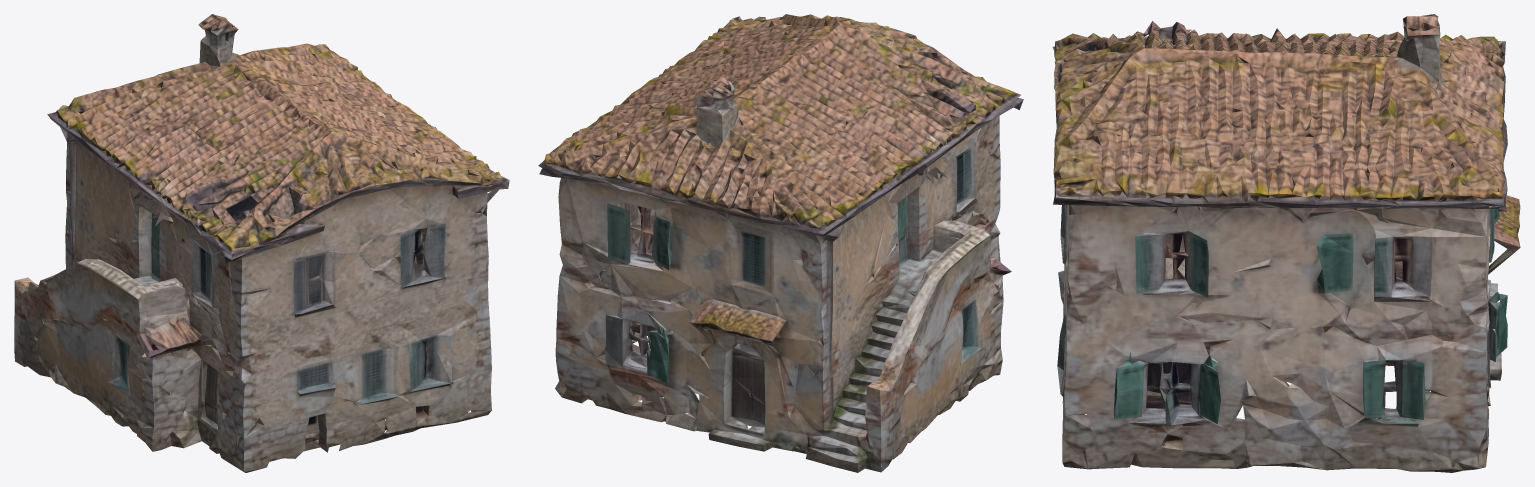
The model's file is it_house.obj.
3 views of the same model, side by side, from view 1: azimuth 30°, elevation 25°; view 2: azimuth 150°, elevation 25°; view 3: azimuth 270°, elevation 25° (orthographic). The views are drawn at different scales.
Visible parts, largest first — view 1: it_house; view 2: it_house; view 3: it_house.
Boxes of the visible parts, x1=… form: it_house: x1=14, y1=14, x2=509, y2=472; it_house: x1=538, y1=14, x2=1023, y2=472; it_house: x1=1052, y1=14, x2=1520, y2=472.
Bounding box in the file's own units: 9.64 × 9.02 × 10.
Materials: 1 (1 with a texture image).
